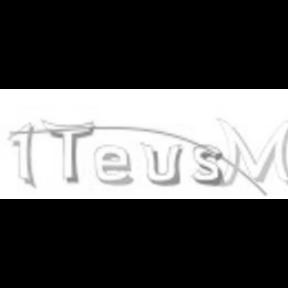1: (7, 120, 37, 186)
M: (215, 113, 288, 187)
T: (40, 117, 96, 184)
e: (93, 144, 135, 186)
s: (190, 143, 224, 189)
u: (140, 142, 184, 188)
